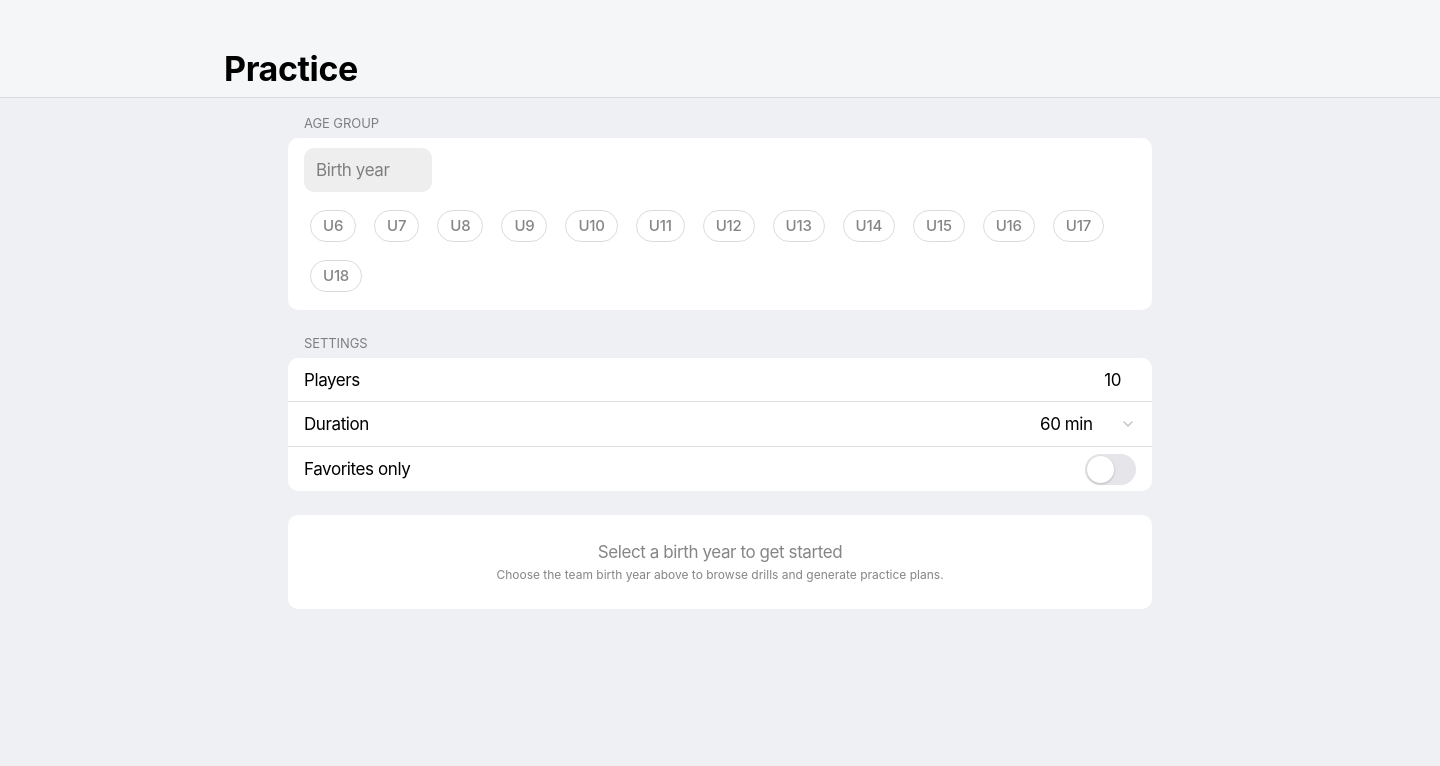
Test: Practice page › hides tactical categories for young age brackets (U6)
Click the button "U6": (333, 226) left=304, top=204, right=362, bottom=248
(page scrolled)
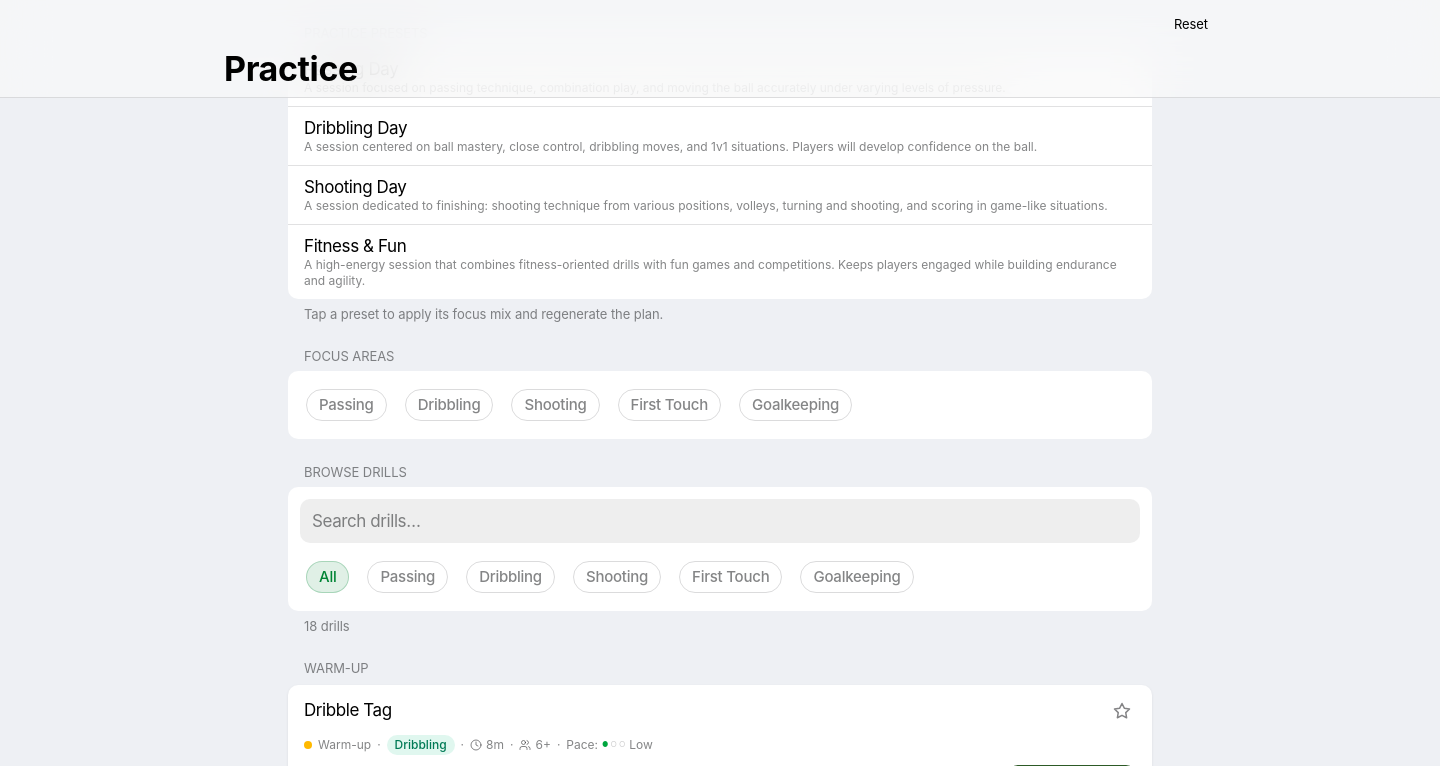
Now the button "Dribbling" below "Focus Areas" is shown, box left=399, top=383, right=500, bottom=427
Now the button "Shooting" below "Focus Areas" is shown, box left=506, top=383, right=606, bottom=427
Now the button "First Touch" below "Focus Areas" is shown, box left=612, top=383, right=727, bottom=427
